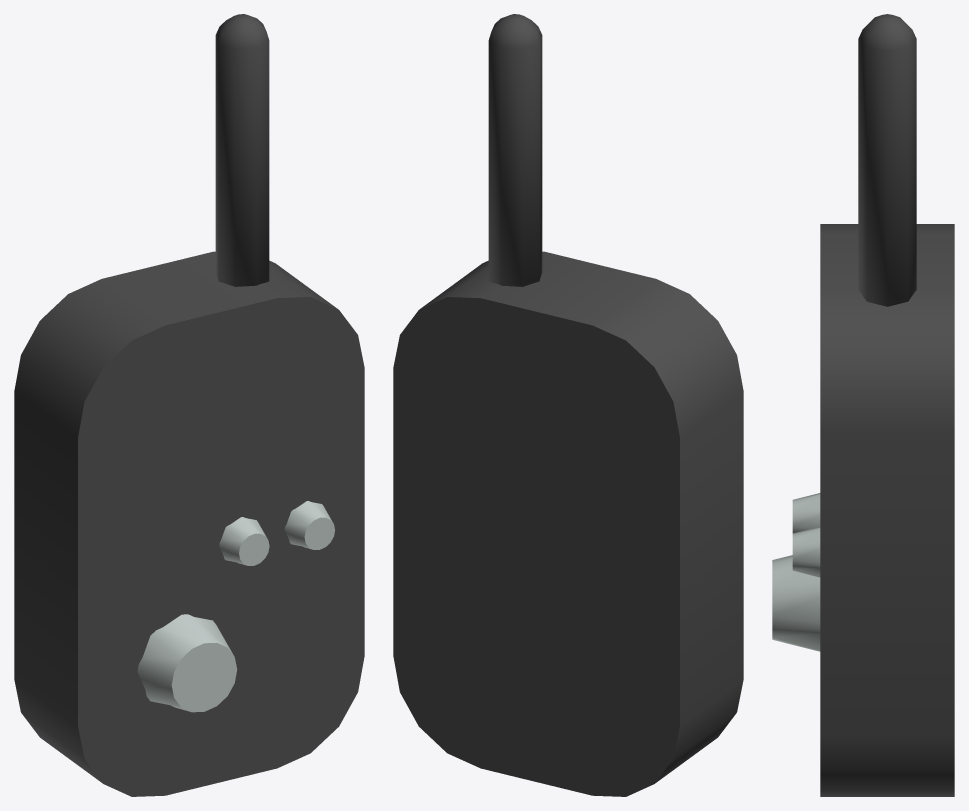
Rendered from Radiostation.fbx.
3 renders of one model, left to right at view 1: azimuth 30°, elevation 25°; view 2: azimuth 150°, elevation 25°; view 3: azimuth 270°, elevation 25°, orthographic. The views are drawn at different scales.
Visible parts, largest first — view 1: Radio Station; view 2: Radio Station; view 3: Radio Station.
Part boxes in pixels (<box>): Radio Station: <box>14,14,364,796</box>; Radio Station: <box>393,14,743,796</box>; Radio Station: <box>772,14,954,796</box>.
Bounding box in the file's own units: 0.2915 × 0.7078 × 0.1522.
